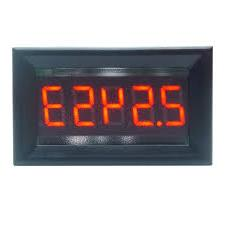.: (157, 120, 163, 127)
2: (162, 84, 186, 126)
3: (43, 86, 64, 127)
4: (101, 87, 125, 126)
5: (132, 84, 155, 127), (74, 86, 95, 127)
